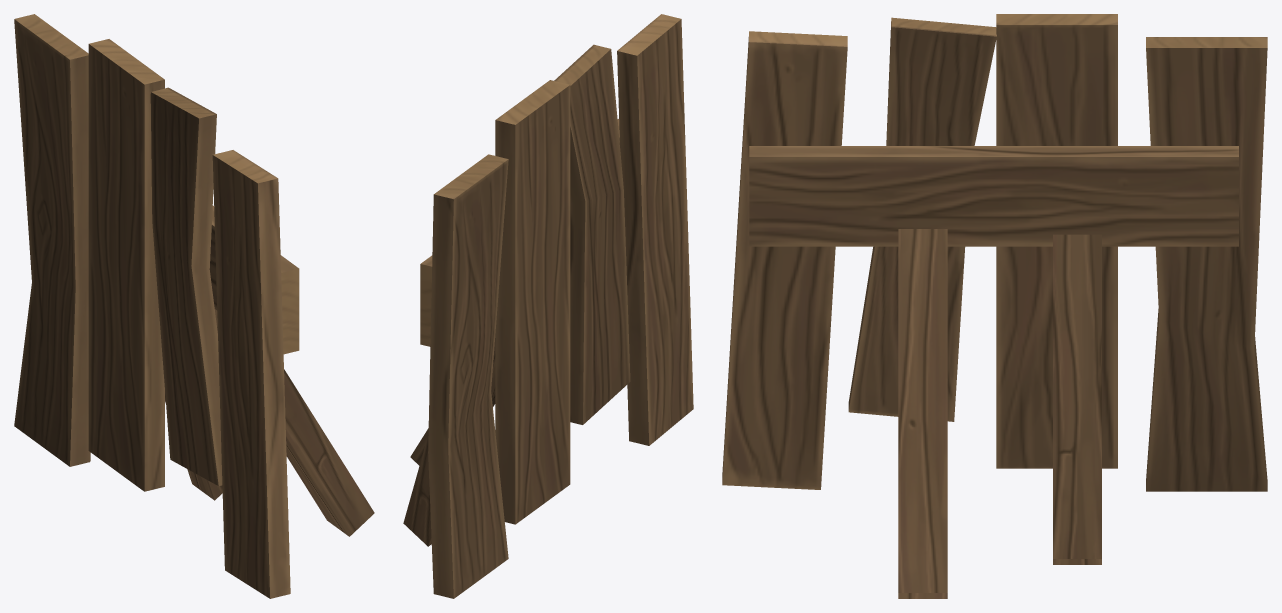
File: Wood_el_05.fbx
The picture shows the model from 3 angles, left to right: view 1: azimuth 30°, elevation 25°; view 2: azimuth 150°, elevation 25°; view 3: azimuth 270°, elevation 25°; orthographic projection. The views are drawn at different scales.
Visible parts, largest first — view 1: polySurface2051; view 2: polySurface2051; view 3: polySurface2051.
Part boxes in pixels (box(x1,y1,x2,y2)): polySurface2051: box(14, 14, 374, 598); polySurface2051: box(403, 14, 693, 598); polySurface2051: box(722, 14, 1267, 598).
Size of the model in its own units: 33.92 by 77.68 by 76.8.
Materials: 1 (1 with a texture image).
